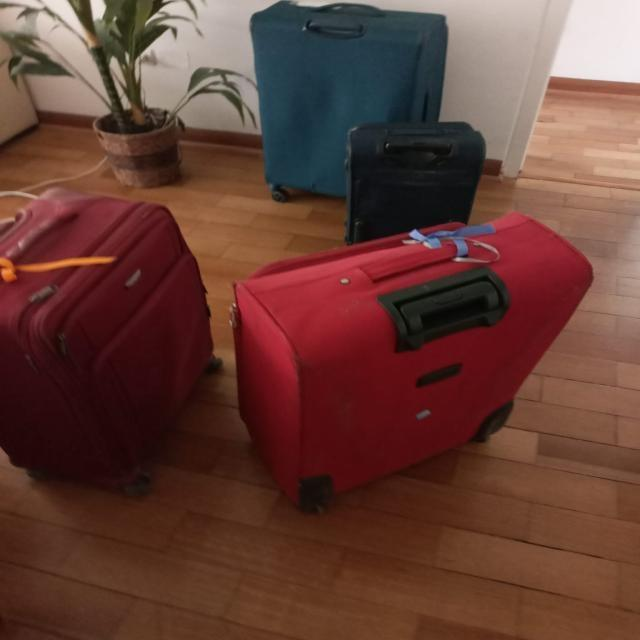Suitcase: (230, 215, 597, 520), (1, 183, 224, 502), (250, 0, 450, 208), (338, 119, 493, 252)
